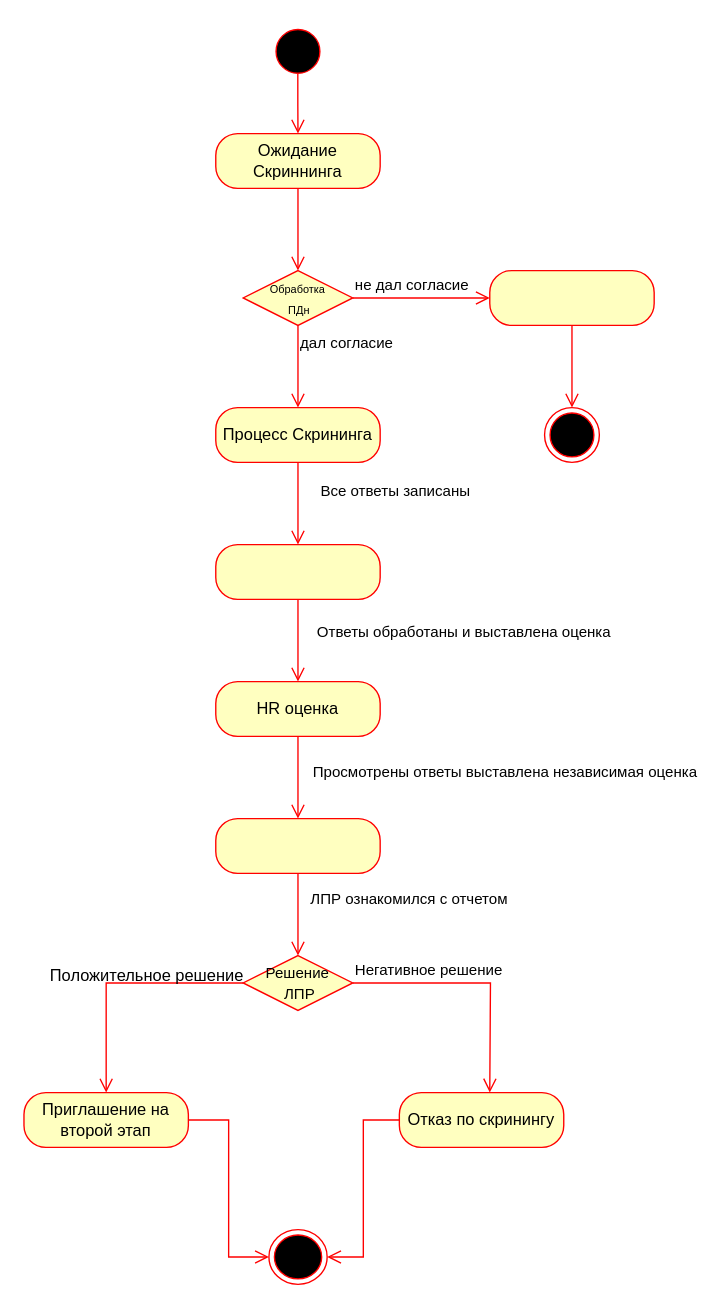
The diagram is 721 pixels wide and 1308 high, and some of its shapes have lost their labels. Each missing label, with the centre of its shape:
"ИИ оценка" belongs at (x=297, y=571).
"Отзыв ЛПР" belongs at (x=297, y=845).
"отказа от обработки ПДН" belongs at (x=571, y=297).
